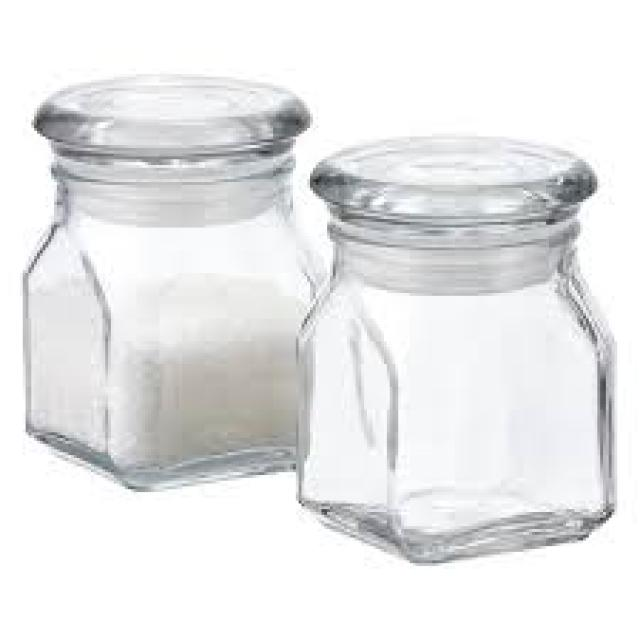glass: (293, 134, 614, 563), (20, 74, 318, 489)
